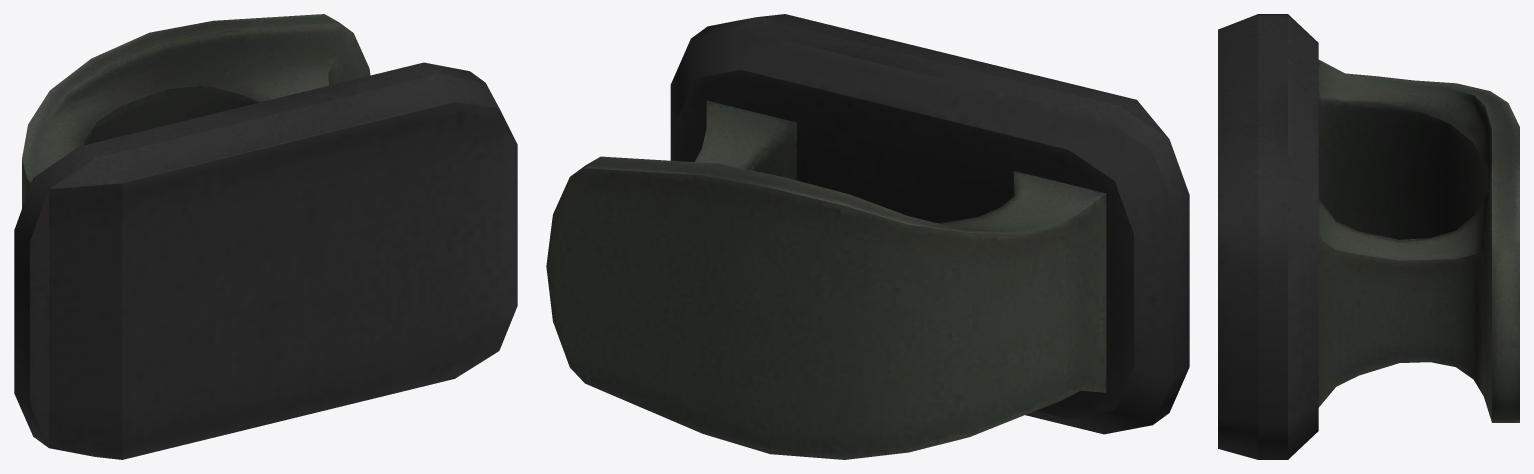
The model's file is t6_attach_pistol_fastmag_view_LOD0.obj.
3 views of the same model, side by side, from view 1: azimuth 30°, elevation 25°; view 2: azimuth 150°, elevation 25°; view 3: azimuth 270°, elevation 25° (orthographic). The views are drawn at different scales.
Parts seen in each view (by area): view 1: mtl_t6_attach_fastmag; view 2: mtl_t6_attach_fastmag; view 3: mtl_t6_attach_fastmag.
Part boxes in pixels (box(x1,y1,x2,y2)): mtl_t6_attach_fastmag: box(14, 14, 517, 459); mtl_t6_attach_fastmag: box(546, 14, 1189, 459); mtl_t6_attach_fastmag: box(1218, 14, 1519, 459).
Bounding box in the file's own units: 6.84 × 4.11 × 3.99.
